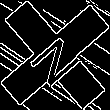N_NE: (23, 23, 87, 87)
